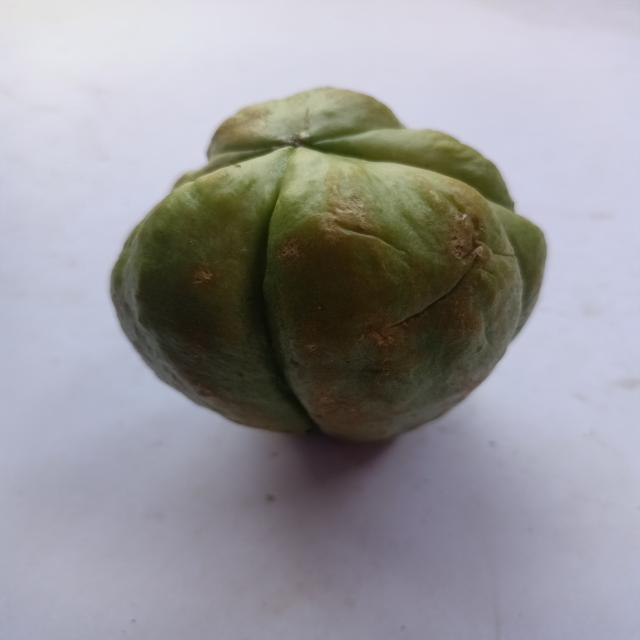Chayote: (88, 72, 572, 493)
